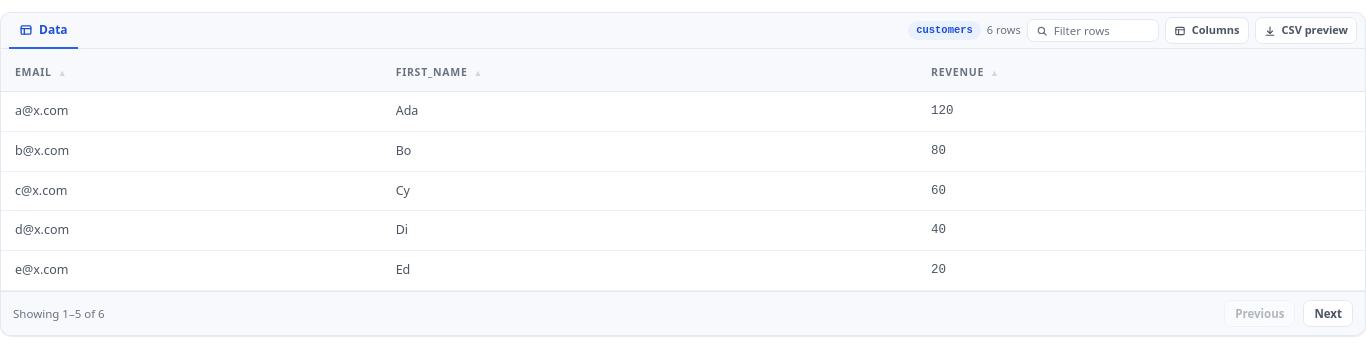
Test: ResultCard › sorts by a column and flips direction on a second click
The width and height of the screenshot is (1366, 354).
Click the button "revenue ▲".
click(965, 73)  # box [931,65,1000,81]
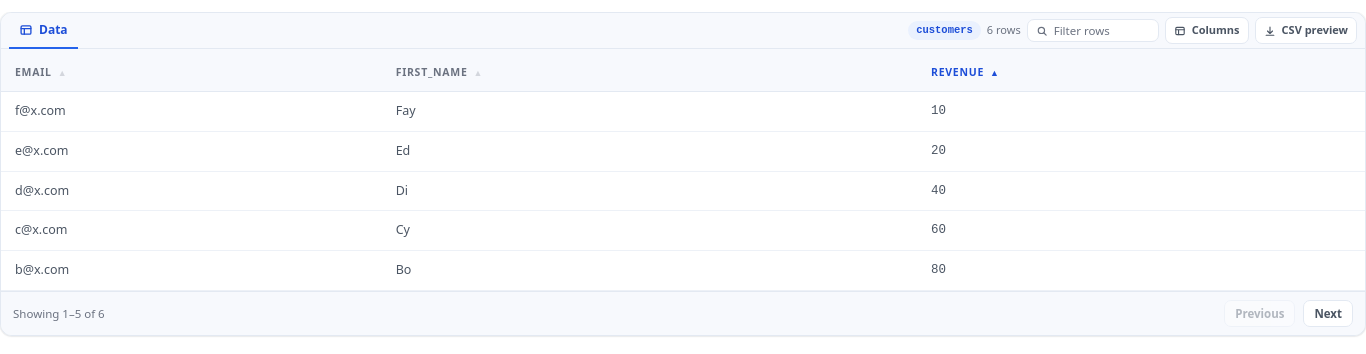
Result: the text "10" is shown at [917,92,1365,131]
Click the button "revenue ▲".
click(965, 73)  # box [931,65,1000,81]
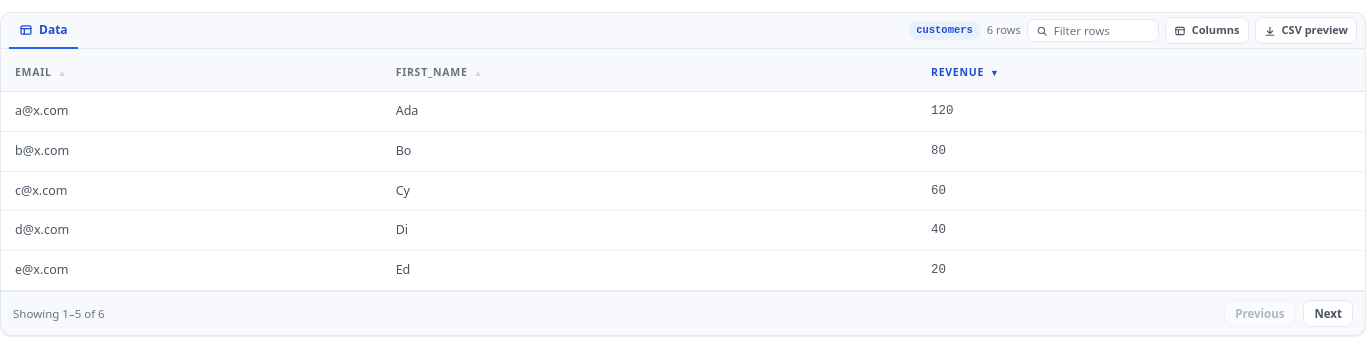
Result: the text "120" is shown at [917,92,1365,131]
